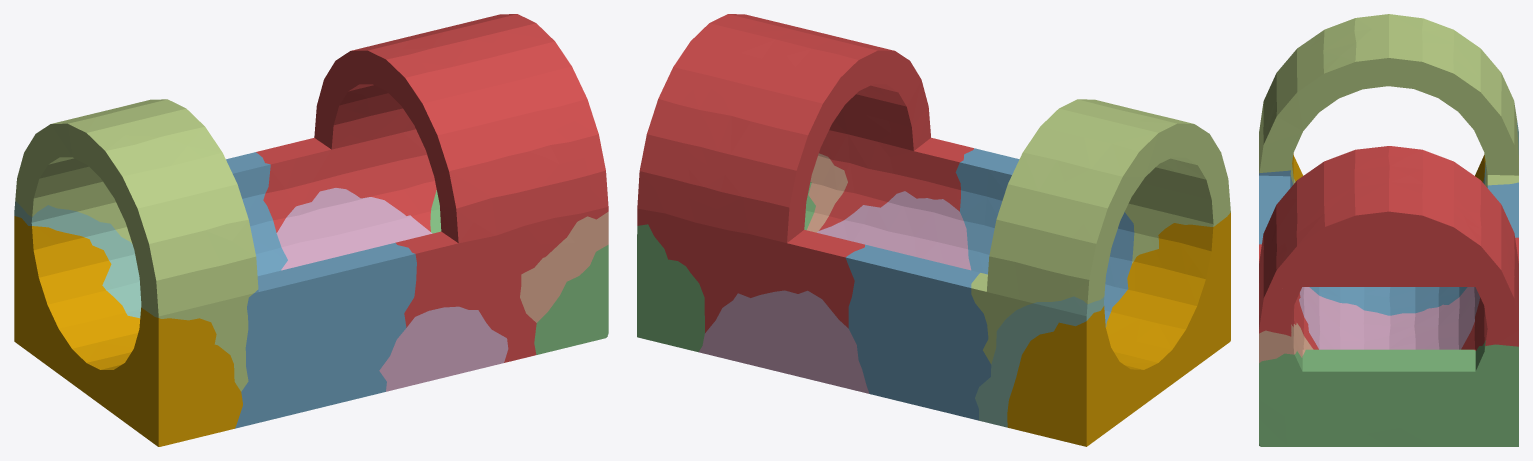
Rendered from mode_13_8pcs.glb.
3 views of the same model, side by side, from view 1: azimuth 30°, elevation 25°; view 2: azimuth 150°, elevation 25°; view 3: azimuth 270°, elevation 25° (orthographic). The views are drawn at different scales.
Parts seen in each view (by area): view 1: piece_1.obj, piece_5.obj, piece_0.obj, piece_2.obj, piece_6.obj, piece_3.obj, piece_4.obj, piece_7.obj; view 2: piece_1.obj, piece_5.obj, piece_0.obj, piece_2.obj, piece_6.obj, piece_3.obj, piece_4.obj, piece_7.obj; view 3: piece_1.obj, piece_3.obj, piece_5.obj, piece_6.obj, piece_2.obj, piece_7.obj, piece_0.obj.
Part boxes in pixels (x1,y1,x2,y2): piece_1.obj: (256, 14, 608, 362); piece_5.obj: (15, 99, 258, 391); piece_0.obj: (14, 216, 242, 446); piece_2.obj: (226, 152, 416, 428); piece_6.obj: (276, 188, 508, 391); piece_3.obj: (430, 190, 608, 354); piece_4.obj: (14, 201, 141, 318); piece_7.obj: (520, 211, 608, 322); piece_1.obj: (637, 14, 973, 332); piece_5.obj: (971, 99, 1230, 364); piece_0.obj: (1007, 212, 1230, 446); piece_2.obj: (845, 148, 1134, 420); piece_6.obj: (699, 191, 971, 393); piece_3.obj: (637, 182, 815, 352); piece_4.obj: (975, 296, 1104, 427); piece_7.obj: (807, 153, 847, 232); piece_1.obj: (1259, 146, 1518, 350); piece_3.obj: (1259, 340, 1518, 446); piece_5.obj: (1259, 14, 1518, 187); piece_6.obj: (1299, 287, 1479, 349); piece_2.obj: (1259, 170, 1518, 315); piece_7.obj: (1259, 323, 1313, 362); piece_0.obj: (1292, 153, 1485, 182).
Size of the model in its own units: 1 by 0.5556 by 0.5555.
